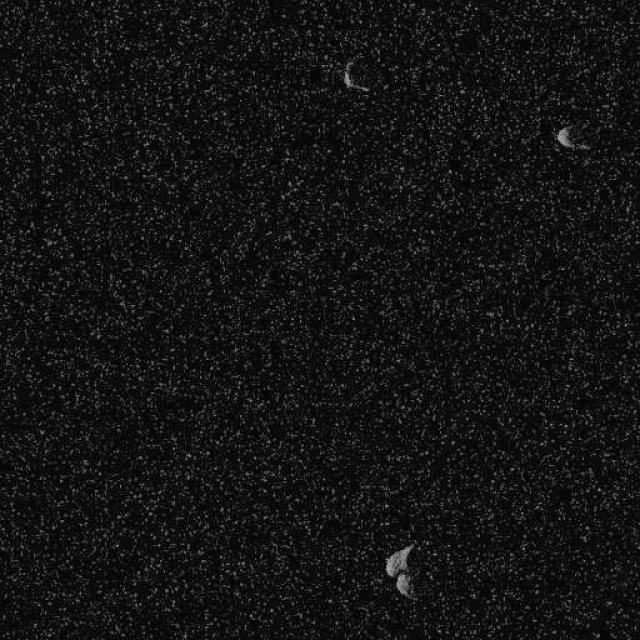D2: (383, 541, 418, 599), (341, 58, 370, 92), (554, 125, 590, 151)
